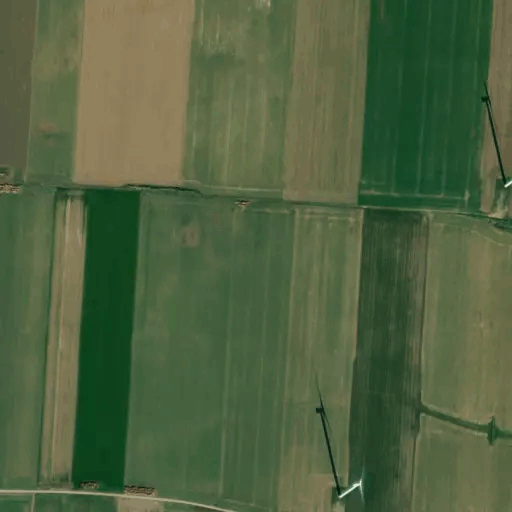wt: (299, 355, 376, 502), (481, 73, 512, 208)
